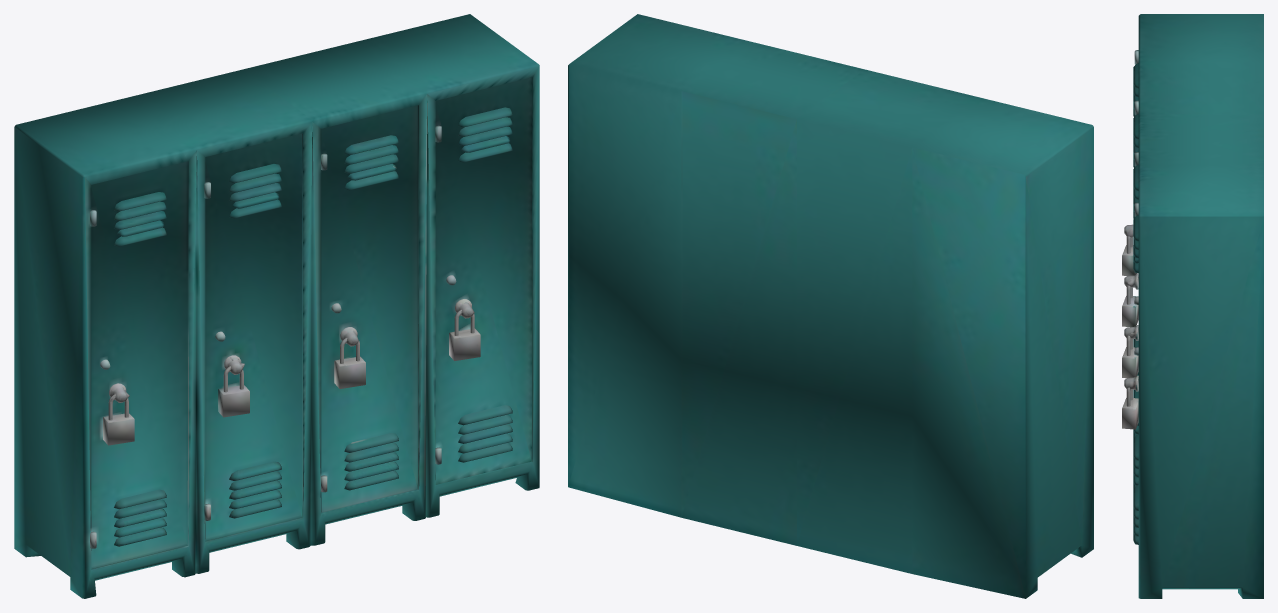
The model's file is Bank_StaffLockers.glb.
3 views of the same model, side by side, from view 1: azimuth 30°, elevation 25°; view 2: azimuth 150°, elevation 25°; view 3: azimuth 270°, elevation 25° (orthographic). The views are drawn at different scales.
Visible parts, largest first — view 1: tripo_node_4f050d05-501b-482e-ad7d-802242cfeec5; view 2: tripo_node_4f050d05-501b-482e-ad7d-802242cfeec5; view 3: tripo_node_4f050d05-501b-482e-ad7d-802242cfeec5.
Part boxes in pixels (x1,y1,x2,y2): tripo_node_4f050d05-501b-482e-ad7d-802242cfeec5: (14,14,539,598); tripo_node_4f050d05-501b-482e-ad7d-802242cfeec5: (568,14,1093,598); tripo_node_4f050d05-501b-482e-ad7d-802242cfeec5: (1122,14,1263,598).
Bounding box in the file's own units: 1 × 0.8906 × 0.2965.
1 material, 1 textured.
